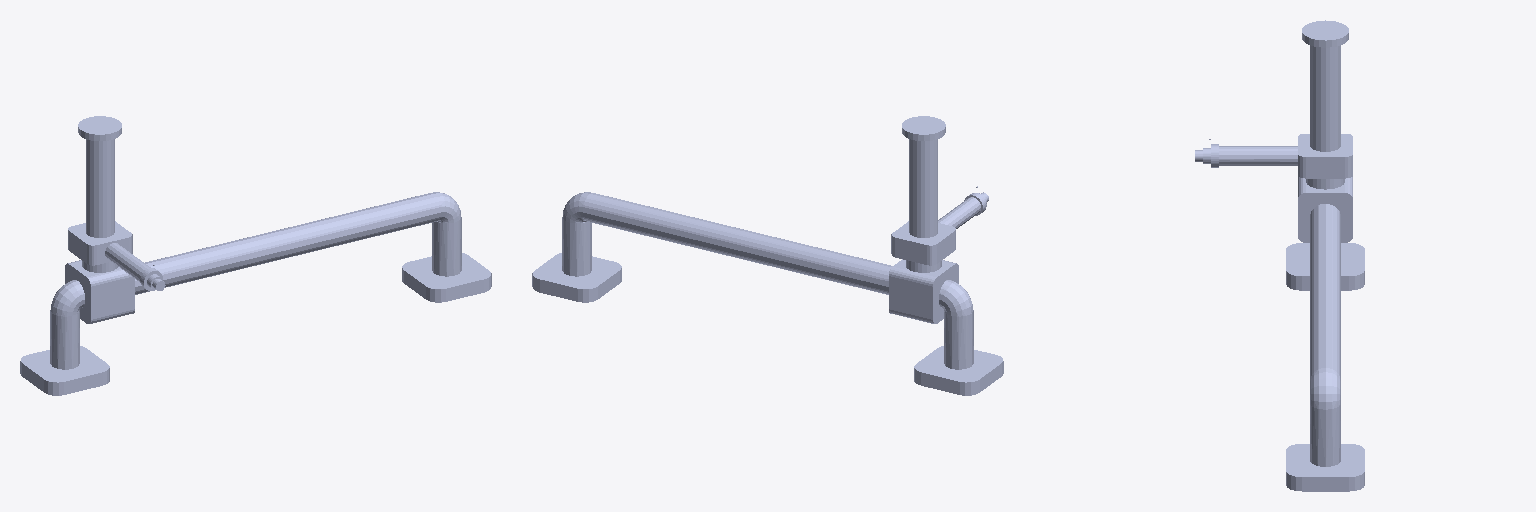
The robot description file, URDF, robot "pharmacy_robot":
<?xml version="1.0" encoding="utf-8"?>
<!-- This URDF was automatically created by SolidWorks to URDF Exporter! Originally created by [author] ([email redacted]) 
     Commit Version: 1.6.0-4-g7f85cfe  Build Version: 1.6.7995.38578
     For more information, please see http://wiki.ros.org/sw_urdf_exporter -->
<robot
  name="pharmacy_robot">
  <link
    name="base_link">
    <inertial>
      <origin
        xyz="0.686728203631121 -0.924762250922737 0.509831812480349"
        rpy="0 0 0" />
      <mass
        value="171.2501252375" />
      <inertia
        ixx="11.8814708114873"
        ixy="9.54097911787248E-15"
        ixz="1.06490545656199E-13"
        iyy="255.922820152329"
        iyz="1.62629094629177E-15"
        izz="246.560343305852" />
    </inertial>
    <visual>
      <origin
        xyz="0 0 0"
        rpy="0 0 0" />
      <geometry>
        <mesh
          filename="package://pharmacy_robot/meshes/base_link.STL" />
      </geometry>
      <material
        name="">
        <color
          rgba="0.792156862745098 0.819607843137255 0.933333333333333 1" />
      </material>
    </visual>
    <collision>
      <origin
        xyz="0 0 0"
        rpy="0 0 0" />
      <geometry>
        <mesh
          filename="package://pharmacy_robot/meshes/base_link.STL" />
      </geometry>
    </collision>
  </link>
  <link
    name="robot_base_link">
    <inertial>
      <origin
        xyz="-0.175 0 0.0120870101207896"
        rpy="0 0 0" />
      <mass
        value="32.8954651519711" />
      <inertia
        ixx="0.877383355888658"
        ixy="-2.18203315235437E-17"
        ixz="1.28965762736164E-17"
        iyy="0.805184572091842"
        iyz="1.70815903992875E-17"
        izz="0.730376858947681" />
    </inertial>
    <visual>
      <origin
        xyz="0 0 0"
        rpy="0 0 0" />
      <geometry>
        <mesh
          filename="package://pharmacy_robot/meshes/robot_base_link.STL" />
      </geometry>
      <material
        name="">
        <color
          rgba="0.792156862745098 0.819607843137255 0.933333333333333 1" />
      </material>
    </visual>
    <collision>
      <origin
        xyz="0 0 0"
        rpy="0 0 0" />
      <geometry>
        <mesh
          filename="package://pharmacy_robot/meshes/robot_base_link.STL" />
      </geometry>
    </collision>
  </link>
  <joint
    name="robot_base"
    type="prismatic">
    <origin
      xyz="-0.363268813043527 -0.924762250922737 0.710106916026756"
      rpy="0 0 0" />
    <parent
      link="base_link" />
    <child
      link="robot_base_link" />
    <axis
      xyz="1 0 0" />
    <limit
      lower="0"
      upper="2.4"
      effort="10"
      velocity="1" />
  </joint>
  <link
    name="vertical_rail_link">
    <inertial>
      <origin
        xyz="3.33066907387547E-16 2.22044604925031E-16 0.453089887640449"
        rpy="0 0 0" />
      <mass
        value="34.9502182711865" />
      <inertia
        ixx="3.59278110132393"
        ixy="-3.3033799663625E-17"
        ixz="-5.90617627192506E-16"
        iyy="3.59278110132393"
        iyz="-1.88243602498197E-16"
        izz="0.196840414701486" />
    </inertial>
    <visual>
      <origin
        xyz="0 0 0"
        rpy="0 0 0" />
      <geometry>
        <mesh
          filename="package://pharmacy_robot/meshes/vertical_rail_link.STL" />
      </geometry>
      <material
        name="">
        <color
          rgba="0.792156862745098 0.819607843137255 0.933333333333333 1" />
      </material>
    </visual>
    <collision>
      <origin
        xyz="0 0 0"
        rpy="0 0 0" />
      <geometry>
        <mesh
          filename="package://pharmacy_robot/meshes/vertical_rail_link.STL" />
      </geometry>
    </collision>
  </link>
  <joint
    name="vertical_rail"
    type="revolute">
    <origin
      xyz="-0.175 0 0.275"
      rpy="0 0 0" />
    <parent
      link="robot_base_link" />
    <child
      link="vertical_rail_link" />
    <axis
      xyz="0 0 1" />
    <limit
      lower="-3.14"
      upper="1.57"
      effort="10"
      velocity="0.5" />
  </joint>
  <link
    name="prismatic_base_link">
    <inertial>
      <origin
        xyz="1.58935575927943E-05 -0.0603741420043145 -0.101948634564318"
        rpy="0 0 0" />
      <mass
        value="15.5496405992668" />
      <inertia
        ixx="0.584009084266603"
        ixy="0.000101296652938908"
        ixz="2.70619018889306E-17"
        iyy="0.19921807382876"
        iyz="6.548462464122E-17"
        izz="0.726124015718573" />
    </inertial>
    <visual>
      <origin
        xyz="0 0 0"
        rpy="0 0 0" />
      <geometry>
        <mesh
          filename="package://pharmacy_robot/meshes/prismatic_base_link.STL" />
      </geometry>
      <material
        name="">
        <color
          rgba="0.792156862745098 0.819607843137255 0.933333333333333 1" />
      </material>
    </visual>
    <collision>
      <origin
        xyz="0 0 0"
        rpy="0 0 0" />
      <geometry>
        <mesh
          filename="package://pharmacy_robot/meshes/prismatic_base_link.STL" />
      </geometry>
    </collision>
  </link>
  <joint
    name="prismatic_base"
    type="prismatic">
    <origin
      xyz="0 0 0.176991225326261"
      rpy="0 0 0" />
    <parent
      link="vertical_rail_link" />
    <child
      link="prismatic_base_link" />
    <axis
      xyz="0 0 1" />
    <limit
      lower="0"
      upper="0.75"
      effort="10"
      velocity="1" />
  </joint>
  <link
    name="prismatic_arm_link">
    <inertial>
      <origin
        xyz="-5.44506258888244E-05 0.213445261051095 0.00238509040996626"
        rpy="0 0 0" />
      <mass
        value="4.52901617120805" />
      <inertia
        ixx="0.086265620179149"
        ixy="2.06560032908264E-05"
        ixz="-6.23561867229785E-07"
        iyy="0.00780059544949018"
        iyz="-1.64153289066334E-10"
        izz="0.0854104256669718" />
    </inertial>
    <visual>
      <origin
        xyz="0 0 0"
        rpy="0 0 0" />
      <geometry>
        <mesh
          filename="package://pharmacy_robot/meshes/prismatic_arm_link.STL" />
      </geometry>
      <material
        name="">
        <color
          rgba="0.792156862745098 0.819607843137255 0.933333333333333 1" />
      </material>
    </visual>
    <collision>
      <origin
        xyz="0 0 0"
        rpy="0 0 0" />
      <geometry>
        <mesh
          filename="package://pharmacy_robot/meshes/prismatic_arm_link.STL" />
      </geometry>
    </collision>
  </link>
  <joint
    name="prismatic_arm"
    type="prismatic">
    <origin
      xyz="0.000177712539755515 -0.675068627586491 -0.101948634564323"
      rpy="0 0 0" />
    <parent
      link="prismatic_base_link" />
    <child
      link="prismatic_arm_link" />
    <axis
      xyz="0.000263251062684053 -0.999999965349439 0" />
    <limit
      lower="0"
      upper="0.5"
      effort="10"
      velocity="0.1" />
  </joint>
  <link
    name="gripper_base_link">
    <inertial>
      <origin
        xyz="-2.19910948704438E-05 0.0835365824712644 0"
        rpy="0 0 0" />
      <mass
        value="1.00629139685298" />
      <inertia
        ixx="0.00223882461755945"
        ixy="2.90039858508858E-07"
        ixz="1.40341745262142E-20"
        iyy="0.00113706333537354"
        iyz="-3.71347206167E-20"
        izz="0.00223882469391275" />
    </inertial>
    <visual>
      <origin
        xyz="0 0 0"
        rpy="0 0 0" />
      <geometry>
        <mesh
          filename="package://pharmacy_robot/meshes/gripper_base_link.STL" />
      </geometry>
      <material
        name="">
        <color
          rgba="0.792156862745098 0.819607843137255 0.933333333333333 1" />
      </material>
    </visual>
    <collision>
      <origin
        xyz="0 0 0"
        rpy="0 0 0" />
      <geometry>
        <mesh
          filename="package://pharmacy_robot/meshes/gripper_base_link.STL" />
      </geometry>
    </collision>
  </link>
  <joint
    name="gripper_base"
    type="revolute">
    <origin
      xyz="3.9488E-05 -0.15 0"
      rpy="0 0 0" />
    <parent
      link="prismatic_arm_link" />
    <child
      link="gripper_base_link" />
    <axis
      xyz="0.00026325 -1 0" />
    <limit
      lower="0"
      upper="1.57"
      effort="10"
      velocity="0.5" />
  </joint>
  <link
    name="camera_link">
    <inertial>
      <origin
        xyz="-0.00618591449909045 0.00500000000000034 0.0174999999999998"
        rpy="0 0 0" />
      <mass
        value="0.01225" />
      <inertia
        ixx="1.35260416666667E-06"
        ixy="-6.79347927453316E-22"
        ixz="1.27881798521391E-21"
        iyy="2.50104166666666E-06"
        iyz="6.09823053655968E-23"
        izz="1.35260416666666E-06" />
    </inertial>
    <visual>
      <origin
        xyz="0 0 0"
        rpy="0 0 0" />
      <geometry>
        <mesh
          filename="package://pharmacy_robot/meshes/camera_link.STL" />
      </geometry>
      <material
        name="">
        <color
          rgba="0.792156862745098 0.819607843137255 0.933333333333333 1" />
      </material>
    </visual>
    <collision>
      <origin
        xyz="0 0 0"
        rpy="0 0 0" />
      <geometry>
        <mesh
          filename="package://pharmacy_robot/meshes/camera_link.STL" />
      </geometry>
    </collision>
  </link>
  <joint
    name="camera"
    type="fixed">
    <origin
      xyz="0.00010114 -0.05 0.12066"
      rpy="3.1416 0.00072914 0.00026325" />
    <parent
      link="prismatic_arm_link" />
    <child
      link="camera_link" />
    <axis
      xyz="0 0 0" />
  </joint>
</robot>

--- What the picture shows (computed from the rendered views, not written in the file) ---
3 views of the same robot in one strip: view 1: azimuth 30°, elevation 25°; view 2: azimuth 150°, elevation 25°; view 3: azimuth 270°, elevation 25° (orthographic).
Model pharmacy_robot with 7 links and 6 joints (2 revolute, 3 prismatic, 1 fixed), rooted at base_link, posed all joints at 0.
Visible links, largest first — view 1: base_link, vertical_rail_link, robot_base_link, prismatic_base_link; view 2: base_link, vertical_rail_link, robot_base_link, prismatic_base_link; view 3: base_link, vertical_rail_link, prismatic_base_link, robot_base_link.
Boxes of the visible links, x1,y1,x2,y2 form: base_link: (20, 192, 491, 395); vertical_rail_link: (78, 116, 121, 237); robot_base_link: (65, 260, 134, 323); prismatic_base_link: (68, 221, 150, 281); base_link: (532, 192, 1003, 395); vertical_rail_link: (902, 116, 945, 237); robot_base_link: (889, 259, 958, 323); prismatic_base_link: (891, 197, 980, 265); base_link: (1286, 204, 1364, 491); vertical_rail_link: (1302, 20, 1348, 151); prismatic_base_link: (1219, 134, 1352, 178); robot_base_link: (1298, 177, 1352, 242).
Bounding box of the posed robot: 3.5 × 1.08 × 1.82 m (x, y, z).
Meshes: 7 distinct files referenced, 7 mesh visuals loaded (7 binary STL).